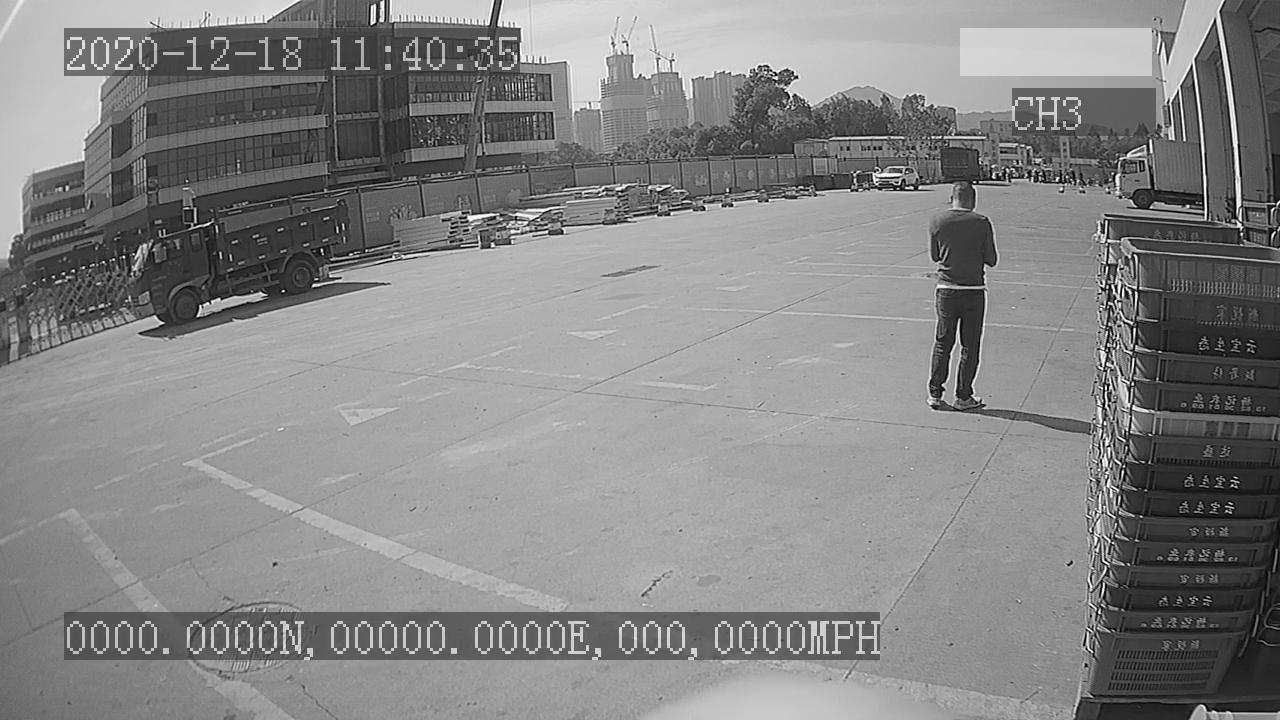person: (924, 179, 1001, 419)
